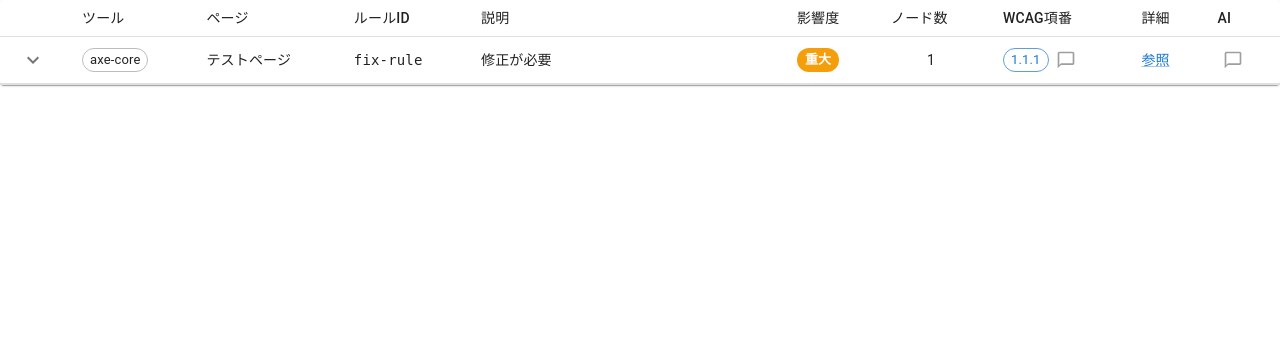
Scenario: フロントエンド統合テスト (Task 12.2) › 問題箇所の視覚的特定 (Task 13.5, Req 6.1, 6.2, 6.4, 6.7) › 拡張ノード情報の表示 › 修正方法ラベルでfailureSummaryが表示される (Req 6.6)
Step 1. Click the button named "ノード情報を展開" → (33, 60), box [16, 43, 50, 77]
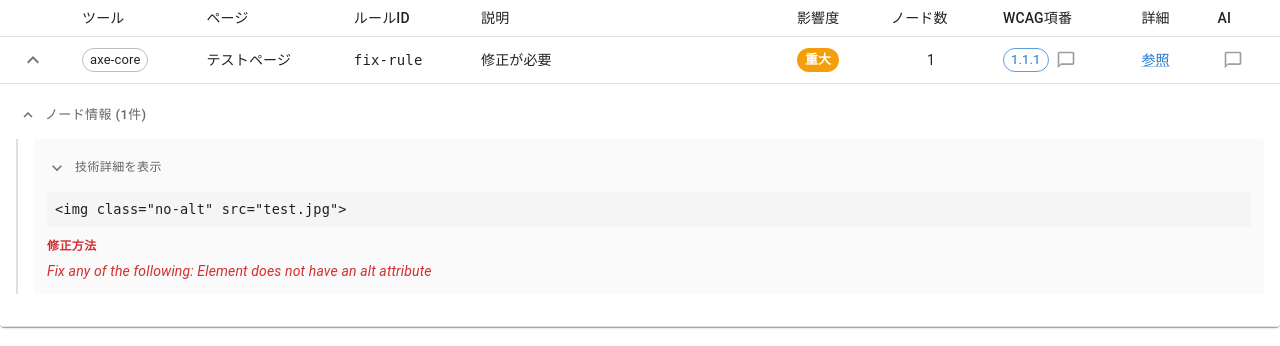
Now the text "修正方法" is shown, box [47, 239, 97, 253]
Now the text "Element does not have an alt attribute" is shown, box [47, 263, 432, 279]
